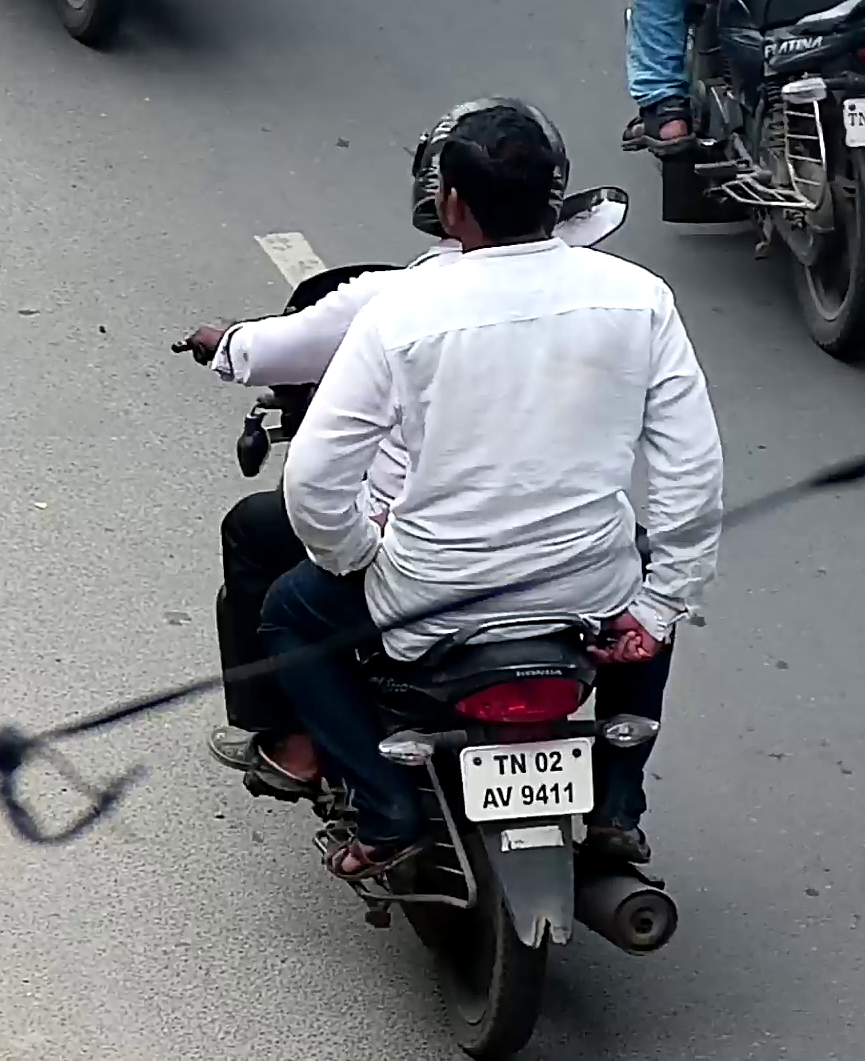0: (535, 752, 548, 773)
1: (561, 781, 573, 803), (550, 782, 561, 804)
2: (548, 751, 563, 772)
4: (534, 784, 549, 805)
9: (521, 785, 534, 806)
A: (482, 788, 496, 809)
N: (509, 752, 527, 775)
P16: (458, 736, 596, 823)
T: (492, 754, 509, 775)
V: (496, 785, 513, 807)
